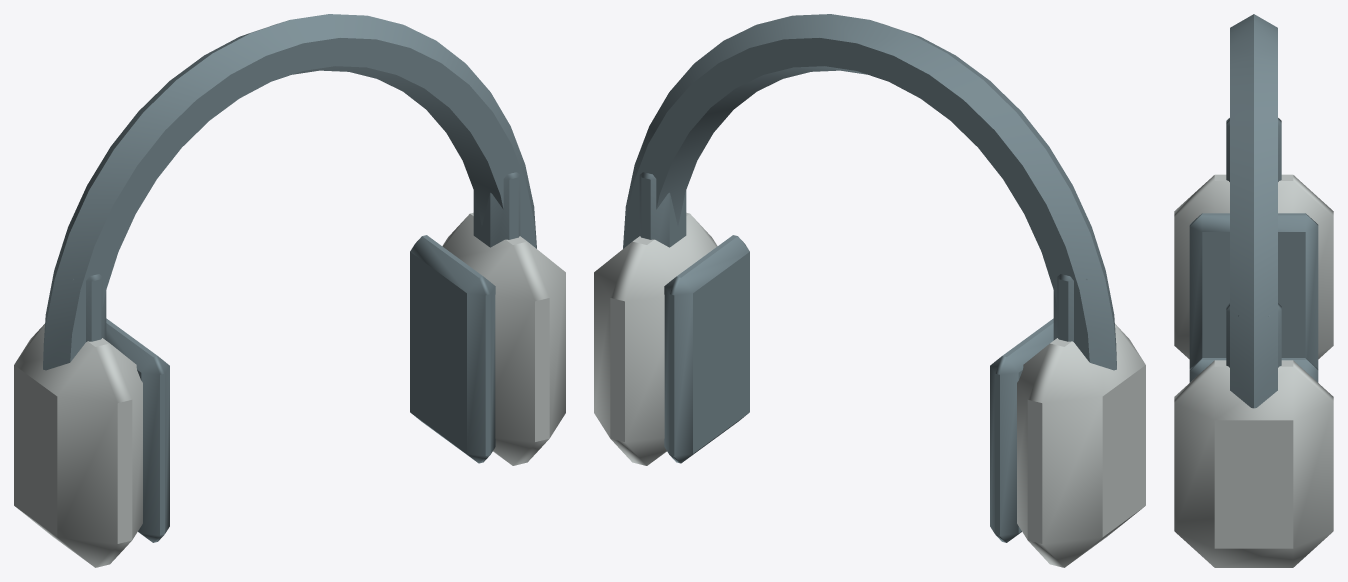
Rendered from headphones.glb.
3 views of the same model, side by side, from view 1: azimuth 30°, elevation 25°; view 2: azimuth 150°, elevation 25°; view 3: azimuth 270°, elevation 25° (orthographic). The views are drawn at different scales.
Parts seen in each view (by area): view 1: padded_headband, ear_cup, ear_cup.001, ear_cushion.001, ear_cushion, slider.001, slider; view 2: padded_headband, ear_cup, ear_cup.001, ear_cushion.001, ear_cushion, slider.001, slider; view 3: ear_cup.001, padded_headband, ear_cushion, ear_cup, ear_cushion.001, slider.001, slider.
Boxes of the visible parts, box(x1,y1,x2,y2) form: padded_headband: box(43, 14, 536, 370); ear_cup: box(14, 324, 142, 567); ear_cup.001: box(442, 212, 565, 465); ear_cushion.001: box(410, 235, 495, 463); ear_cushion: box(106, 318, 169, 542); slider.001: box(473, 169, 523, 247); slider: box(56, 267, 106, 341); padded_headband: box(623, 14, 1116, 370); ear_cup: box(1017, 324, 1145, 567); ear_cup.001: box(594, 212, 717, 465); ear_cushion.001: box(664, 235, 749, 463); ear_cushion: box(990, 318, 1053, 542); slider.001: box(636, 169, 686, 247); slider: box(1053, 267, 1103, 341); ear_cup.001: box(1174, 360, 1333, 567); padded_headband: box(1230, 14, 1277, 408); ear_cushion: box(1189, 213, 1318, 368); ear_cup: box(1174, 174, 1333, 359); ear_cushion.001: box(1189, 358, 1318, 382); slider.001: box(1226, 303, 1281, 367); slider: box(1226, 118, 1281, 181).
Size of the model in its own units: 0.212 by 0.191 by 0.063.
